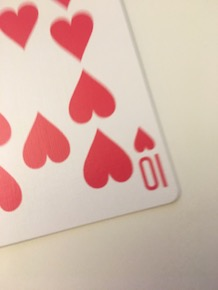TenOfHearts: (1, 1, 183, 248)
